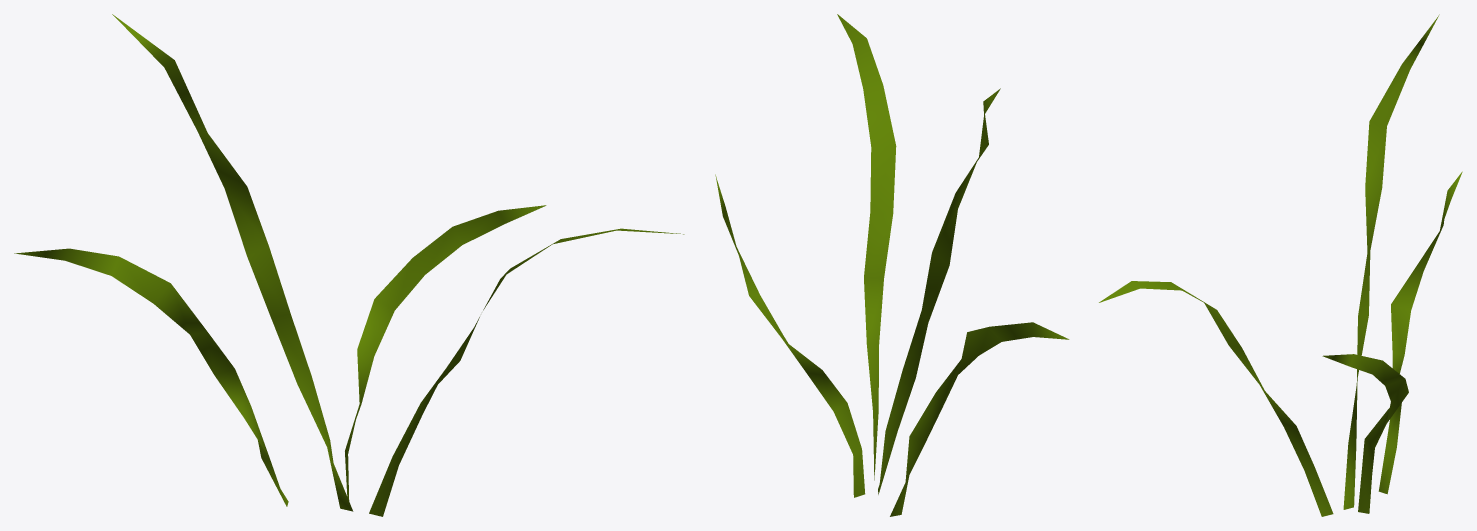
Rendered from GrassLong01.fbx.
3 renders of one model, left to right at view 1: azimuth 30°, elevation 25°; view 2: azimuth 150°, elevation 25°; view 3: azimuth 270°, elevation 25°, orthographic. The views are drawn at different scales.
Visible parts, largest first — view 1: GrassLong01_LOD0; view 2: GrassLong01_LOD0; view 3: GrassLong01_LOD0.
Part boxes in pixels (x1,y1,x2,y2): GrassLong01_LOD0: (14, 14, 684, 516); GrassLong01_LOD0: (715, 14, 1069, 516); GrassLong01_LOD0: (1099, 14, 1462, 516).
Size of what is drawn, in the model's own units: 73.44 by 76.97 by 60.4.
